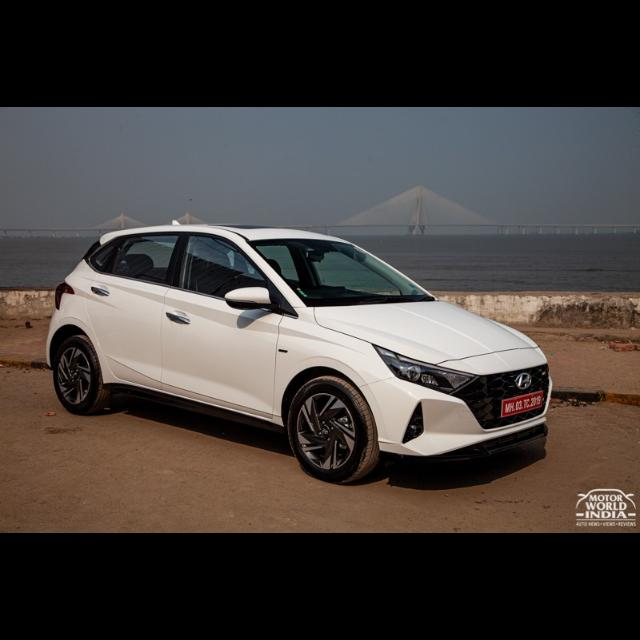number-plate: (501, 391, 542, 416)
vehicles: (45, 221, 553, 491)
